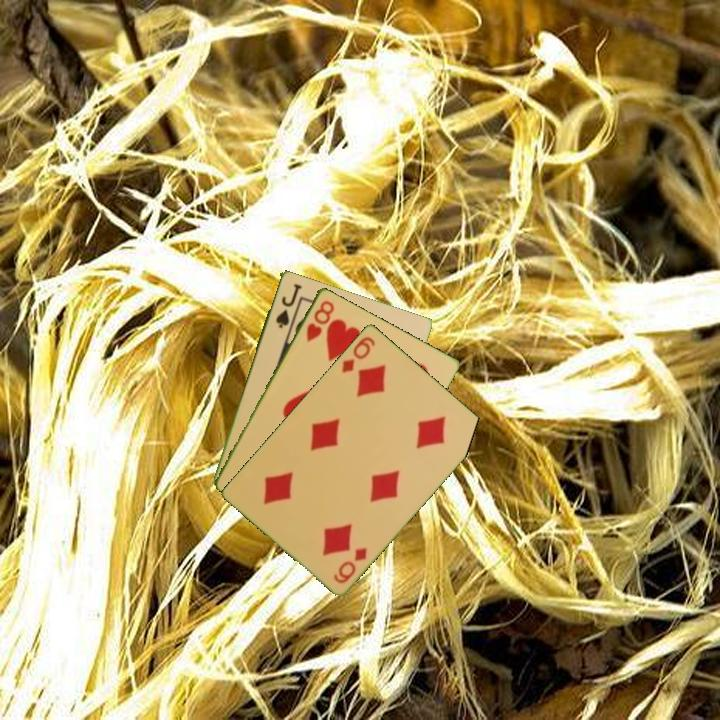6d: (330, 543, 370, 586), (338, 333, 378, 375)
8h: (303, 296, 337, 344)
Js: (272, 280, 303, 331)
